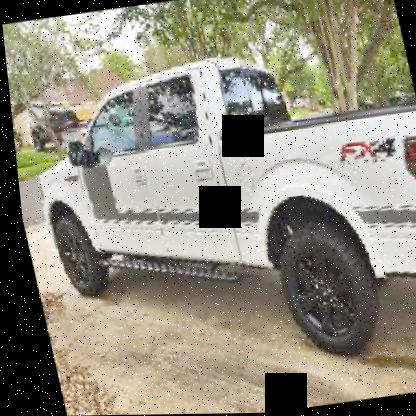not_emergency: (8, 38, 415, 387)
